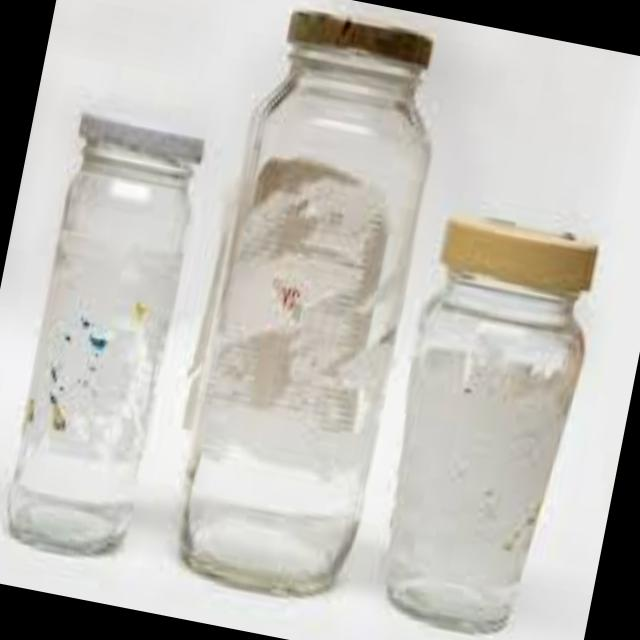ToplesKaca: (158, 0, 459, 608), (364, 202, 609, 640), (0, 105, 210, 569)
